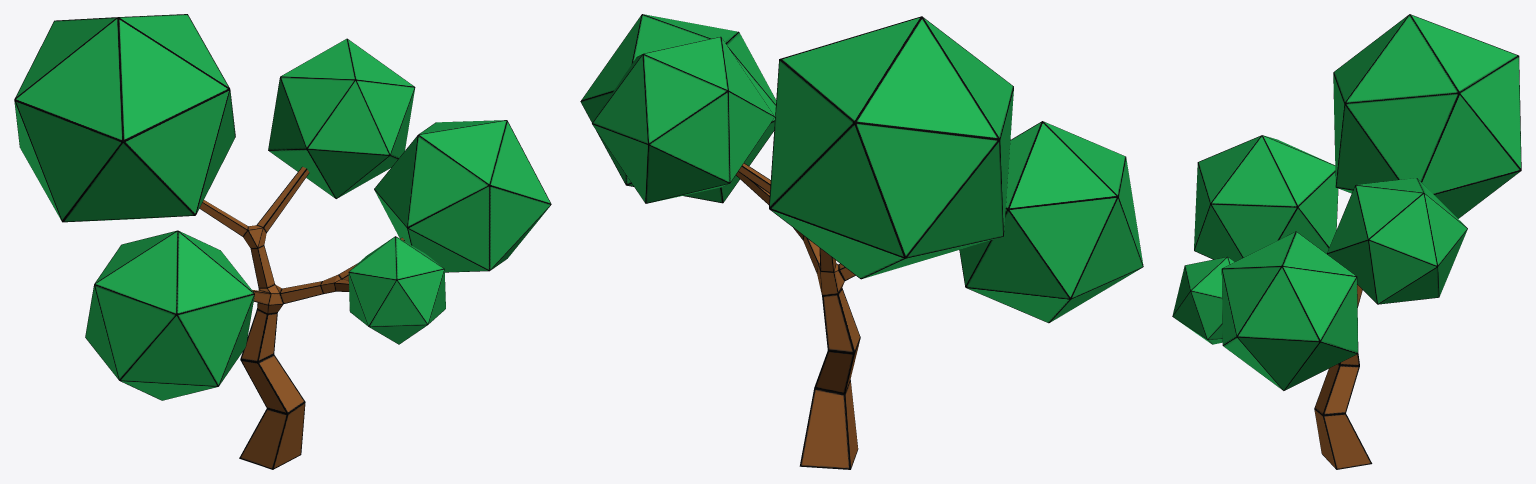
Rendered from tree3.fbx.
3 views of the same model, side by side, from view 1: azimuth 30°, elevation 25°; view 2: azimuth 150°, elevation 25°; view 3: azimuth 270°, elevation 25° (orthographic). The views are drawn at different scales.
Visible parts, largest first — view 1: tree3; view 2: tree3; view 3: tree3.
Boxes of the visible parts, left/top/right/bottom form: tree3: left=14, top=14, right=551, bottom=469; tree3: left=580, top=14, right=1143, bottom=469; tree3: left=1172, top=14, right=1521, bottom=469.
Bounding box in the file's own units: 600 × 566 × 454.
Materials: 1 (1 with a texture image).
